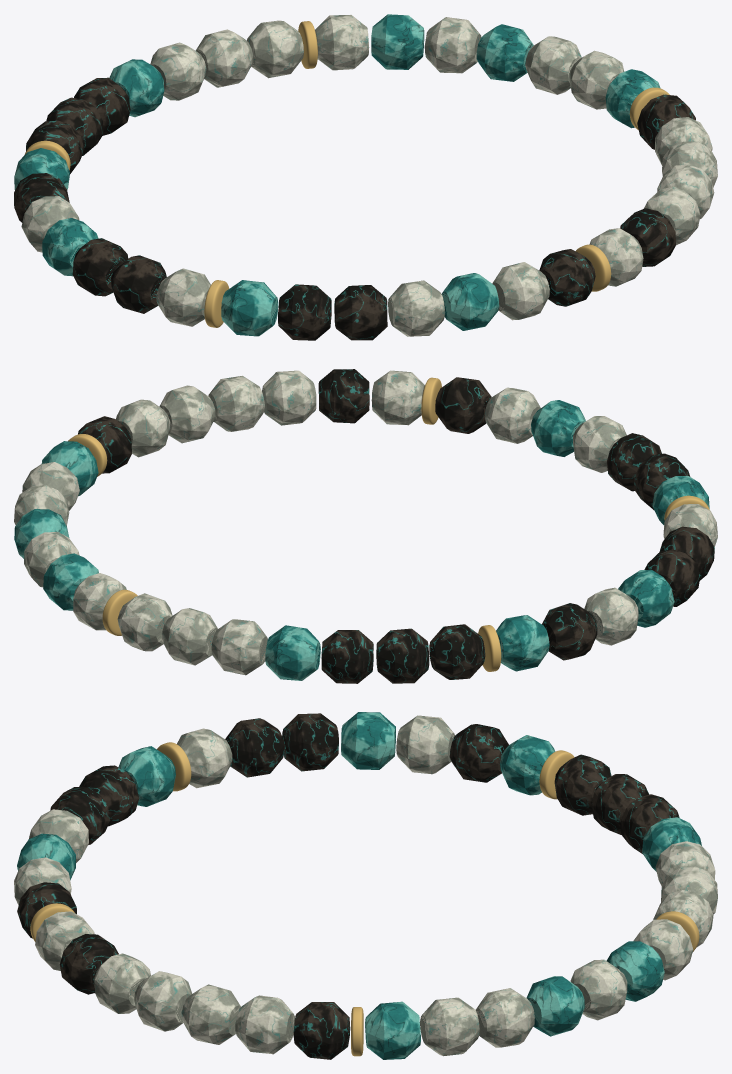
Rendered from standard.glb.
The picture shows the model from 3 angles, top to bottom: view 1: azimuth 30°, elevation 25°; view 2: azimuth 150°, elevation 25°; view 3: azimuth 270°, elevation 25°; orthographic projection. The views are drawn at different scales.
Visible parts, largest first — view 1: facet_kulka_1.004, facet_kulka_4.004, facet_kulka_0.005, facet_kulka_3.004, facet_kulka_2.004, facet_kulka_4, facet_kulka_0.001, facet_kulka_2.001, facet_kulka_1.005, facet_kulka_1.001, facet_kulka_3, facet_kulka_3.001 (+27 smaller); view 2: facet_kulka_3.002, facet_kulka_0.002, facet_kulka_4.001, facet_kulka_2.002, facet_kulka_0.006, facet_kulka_2.005, facet_kulka_1.002, facet_kulka_1.006, facet_kulka_3.001, facet_kulka_4.005, facet_kulka_3.005, facet_kulka_0.003 (+27 smaller); view 3: facet_kulka_1, facet_kulka_3.006, facet_kulka_2, facet_kulka_3.003, facet_kulka_4.006, facet_kulka_1.003, facet_kulka_2.003, facet_kulka_0, facet_kulka_2.006, facet_kulka_4.003, facet_kulka_0.003, facet_kulka_3 (+28 smaller).
Part boxes in pixels (<box>): facet_kulka_1.004: <box>221,280,278,336</box>; facet_kulka_4.004: <box>388,280,444,336</box>; facet_kulka_0.005: <box>441,273,499,330</box>; facet_kulka_3.004: <box>334,285,387,340</box>; facet_kulka_2.004: <box>278,284,331,340</box>; facet_kulka_4: <box>424,17,481,73</box>; facet_kulka_0.001: <box>371,14,424,69</box>; facet_kulka_2.001: <box>246,20,303,78</box>; facet_kulka_1.005: <box>492,262,549,320</box>; facet_kulka_1.001: <box>315,15,369,70</box>; facet_kulka_3: <box>476,24,533,81</box>; facet_kulka_3.001: <box>195,29,253,87</box>; facet_kulka_3.002: <box>429,624,485,679</box>; facet_kulka_0.002: <box>265,625,320,680</box>; facet_kulka_4.001: <box>211,619,267,675</box>; facet_kulka_2.002: <box>376,628,429,683</box>; facet_kulka_0.006: <box>262,370,316,425</box>; facet_kulka_2.005: <box>435,377,491,433</box>; facet_kulka_1.002: <box>321,630,373,683</box>; facet_kulka_1.006: <box>208,375,264,431</box>; facet_kulka_3.001: <box>162,608,217,665</box>; facet_kulka_4.005: <box>318,369,369,423</box>; facet_kulka_3.005: <box>371,370,424,425</box>; facet_kulka_0.003: <box>542,603,597,660</box>; facet_kulka_1: <box>420,997,479,1056</box>; facet_kulka_3.006: <box>235,995,294,1054</box>; facet_kulka_2: <box>476,988,534,1047</box>; facet_kulka_3.003: <box>282,713,338,771</box>; facet_kulka_4.006: <box>293,1002,350,1059</box>; facet_kulka_1.003: <box>396,715,454,774</box>; facet_kulka_2.003: <box>341,712,395,769</box>; facet_kulka_0: <box>365,1001,420,1059</box>; facet_kulka_2.006: <box>181,984,240,1044</box>; facet_kulka_4.003: <box>225,718,284,777</box>; facet_kulka_0.003: <box>449,724,508,782</box>; facet_kulka_3: <box>526,976,584,1036</box>.
Size of the model in its own units: 6.04 by 0.4721 by 5.7.
Materials: 4 (3 with a texture image).
